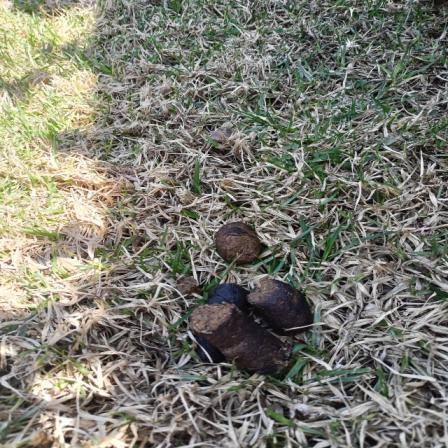dog-poop: (183, 214, 319, 379)
